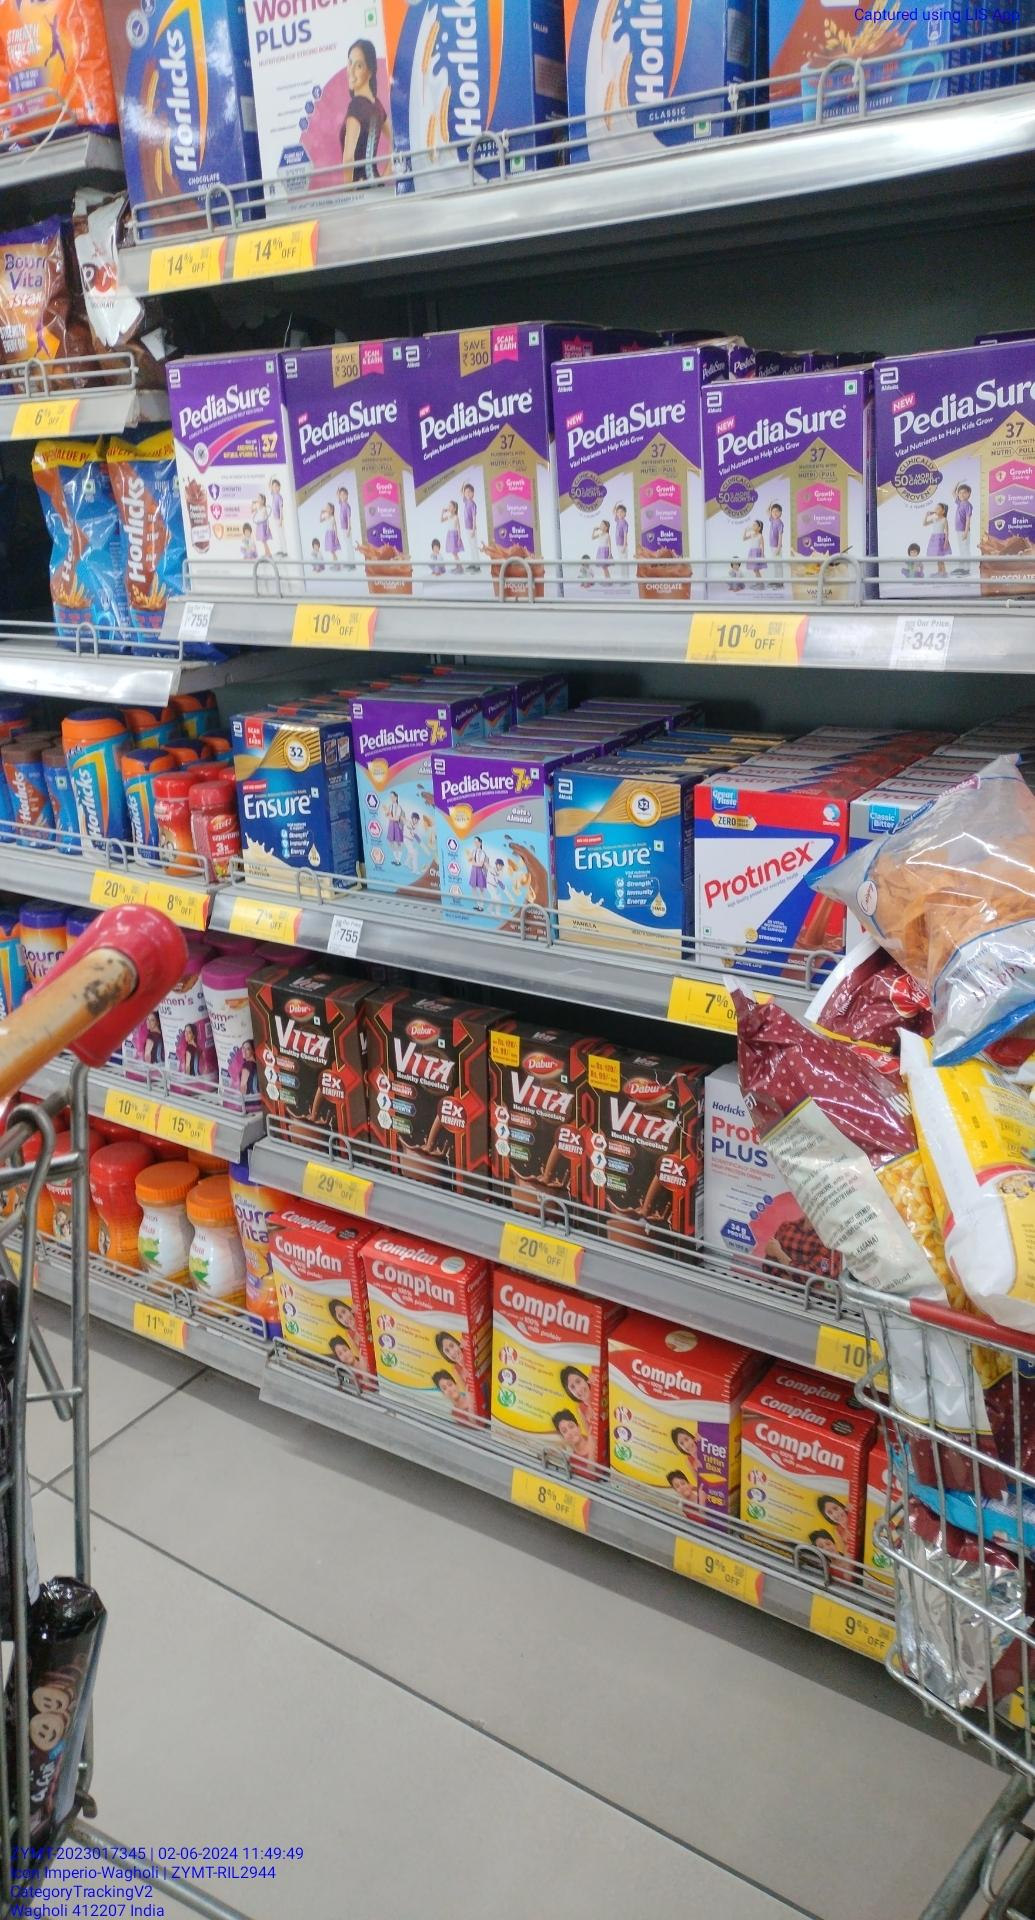ENSURE_VANILLA_400_G_PACK: (553, 766, 682, 957), (226, 717, 335, 897)
PEDIASURE_7_PLUS_CHOCOLATE_400_G_PACK: (436, 756, 548, 942)
PEDIASURE_CHOCOLATE_500_G_PACK: (885, 344, 1035, 603), (707, 375, 867, 596), (563, 354, 697, 600)
